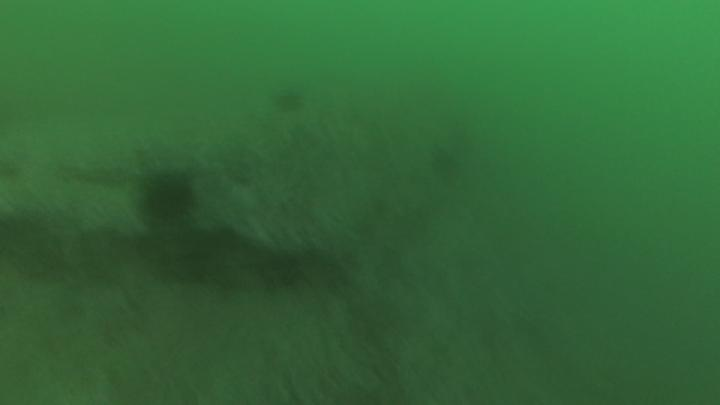echinus: (135, 164, 204, 226)
